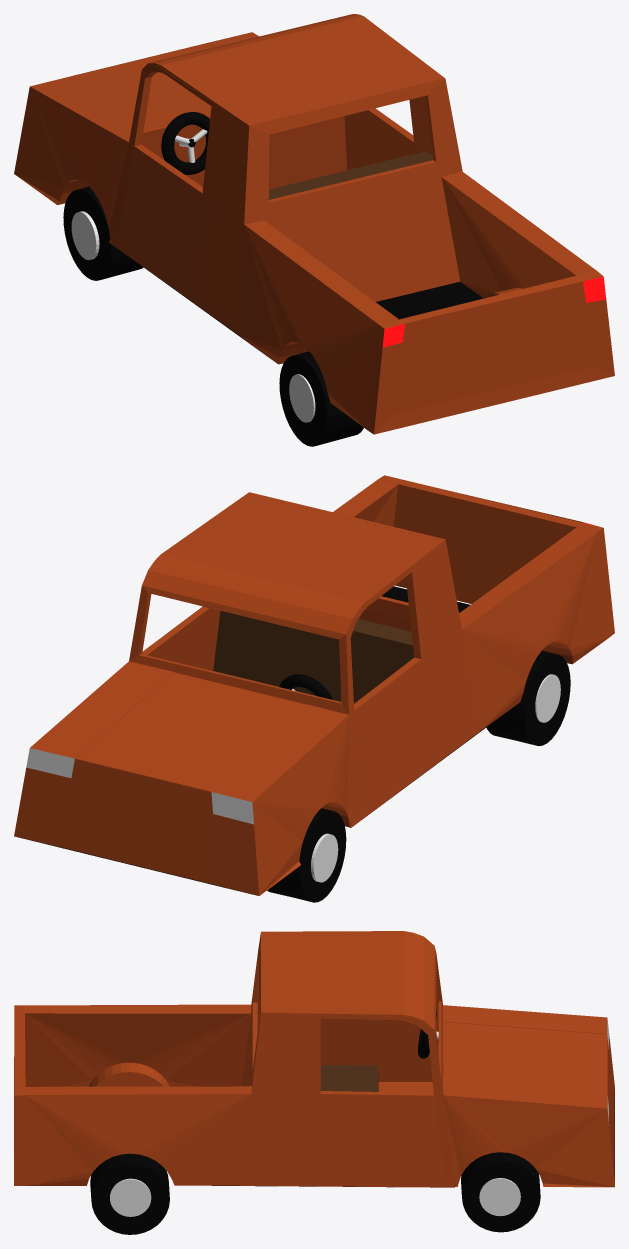
Rendered from Car.fbx.
3 views of the same model, one above another, from view 1: azimuth 30°, elevation 25°; view 2: azimuth 150°, elevation 25°; view 3: azimuth 270°, elevation 25° (orthographic). The views are drawn at different scales.
Parts seen in each view (by area): view 1: Cube; view 2: Cube; view 3: Cube.
Part boxes in pixels (bbox=[...]): Cube: bbox=[14, 14, 614, 446]; Cube: bbox=[14, 475, 614, 902]; Cube: bbox=[14, 931, 614, 1234].
Size of the model in its own units: 223 by 220 by 559.
